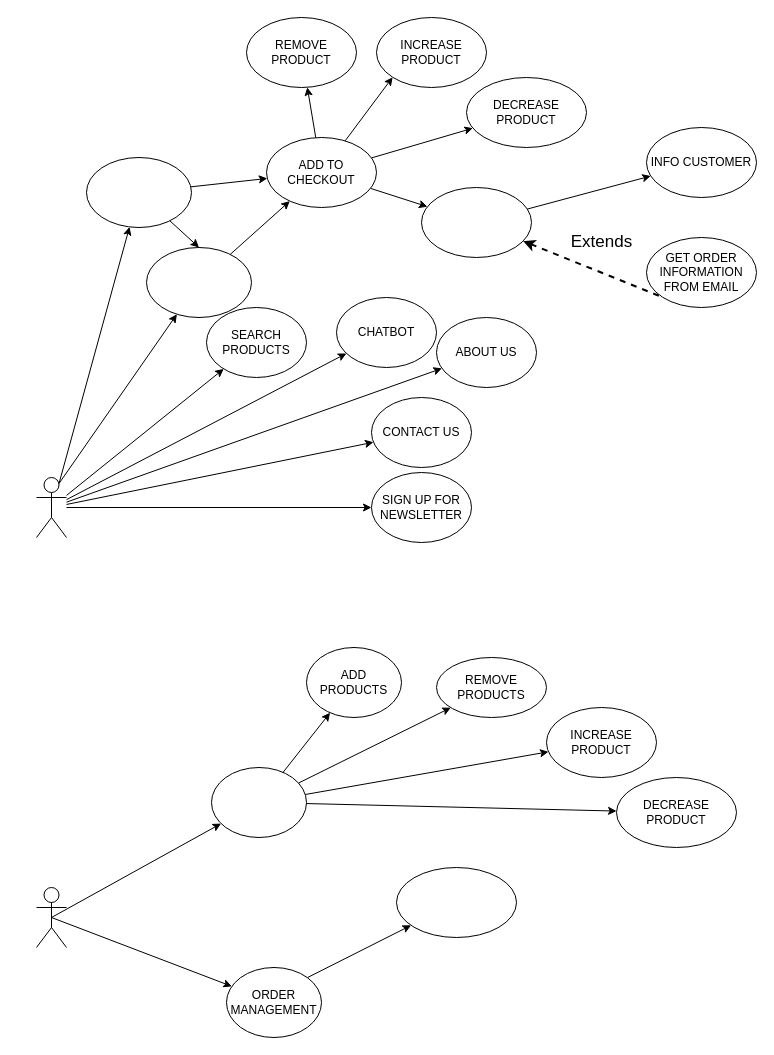
This 774x1055 diagram has some shape labels left out. The box of each missing label's shape, as (x1, y1, x2, y2) in pixels:
ADD TO CART: (146, 246, 252, 318)
ADMIN: (36, 886, 66, 948)
CUSTOMER: (36, 476, 66, 538)
PAYMENT: (420, 186, 532, 258)
PRODUCT MANAGEMENT: (210, 766, 306, 838)
VIEW DETAIL PRODUCTS: (86, 156, 192, 228)
VIEW INFO ORDERS: (396, 866, 516, 938)
